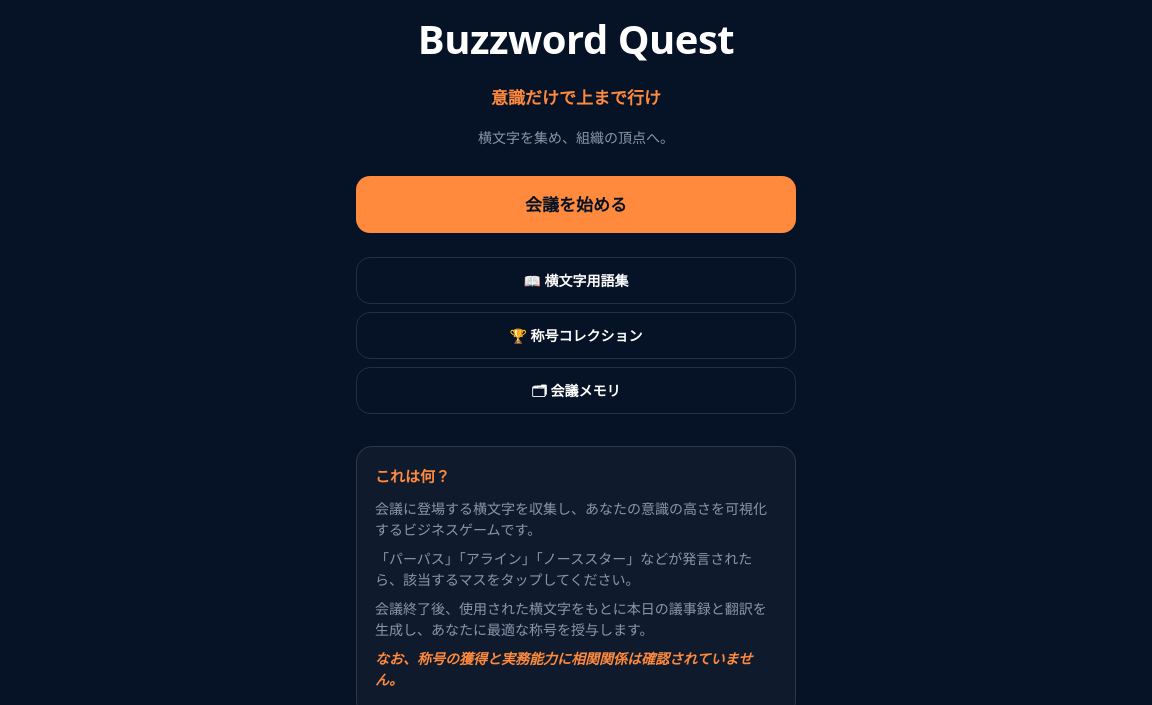
App - title acquisition flow › proceeds to the Result screen (showing the same title) after 結果を見る
The image size is (1152, 705).
Click the button "会議を始める" at (576, 204), box [356,176,796,233]
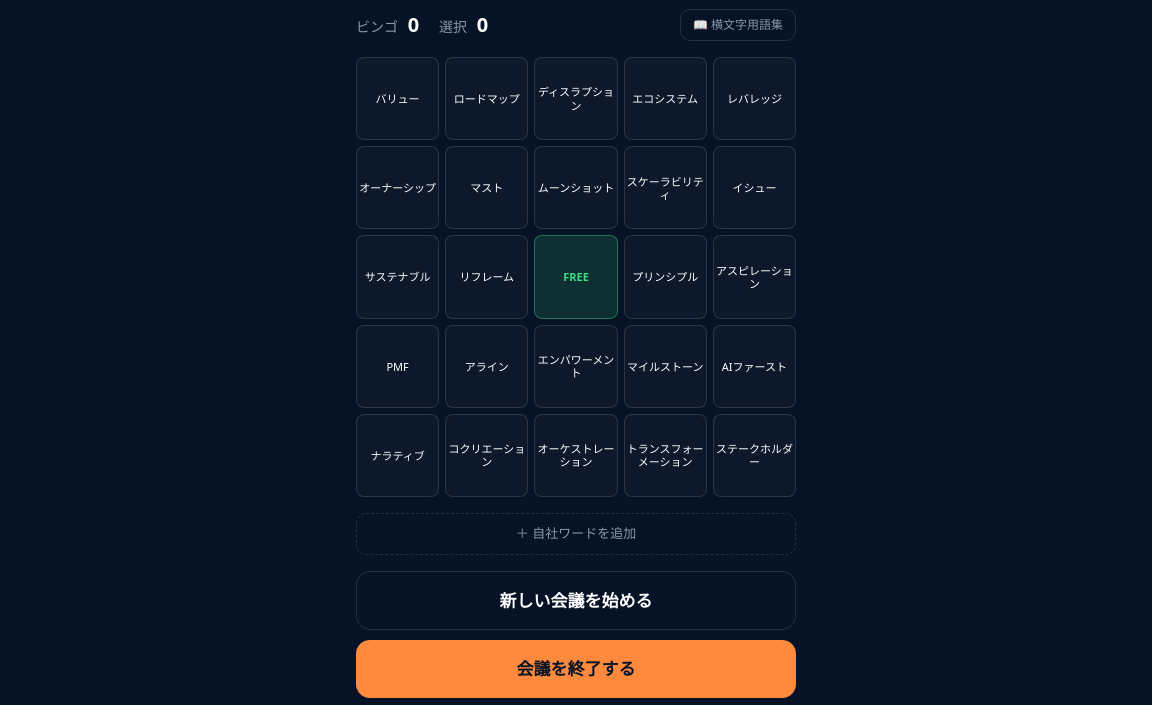
Click the button "バリュー" at (398, 99), box [356,57,439,140]
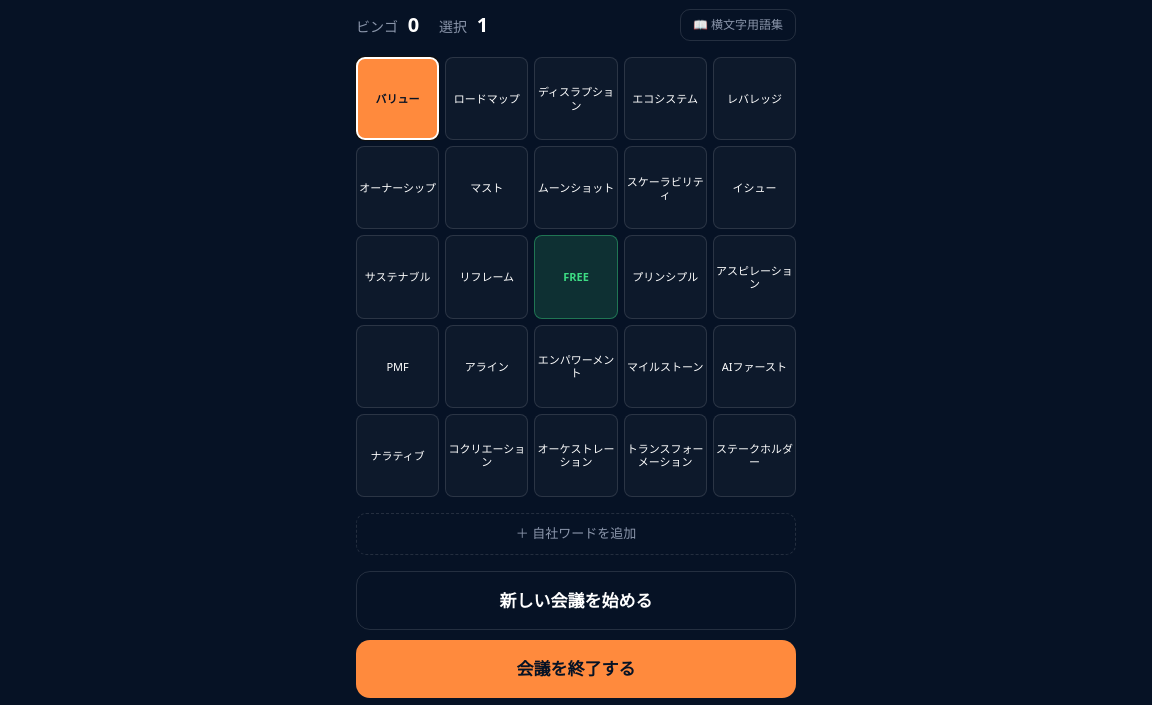
Click the button "会議を終了する" at (576, 669), box [356,640,796,698]
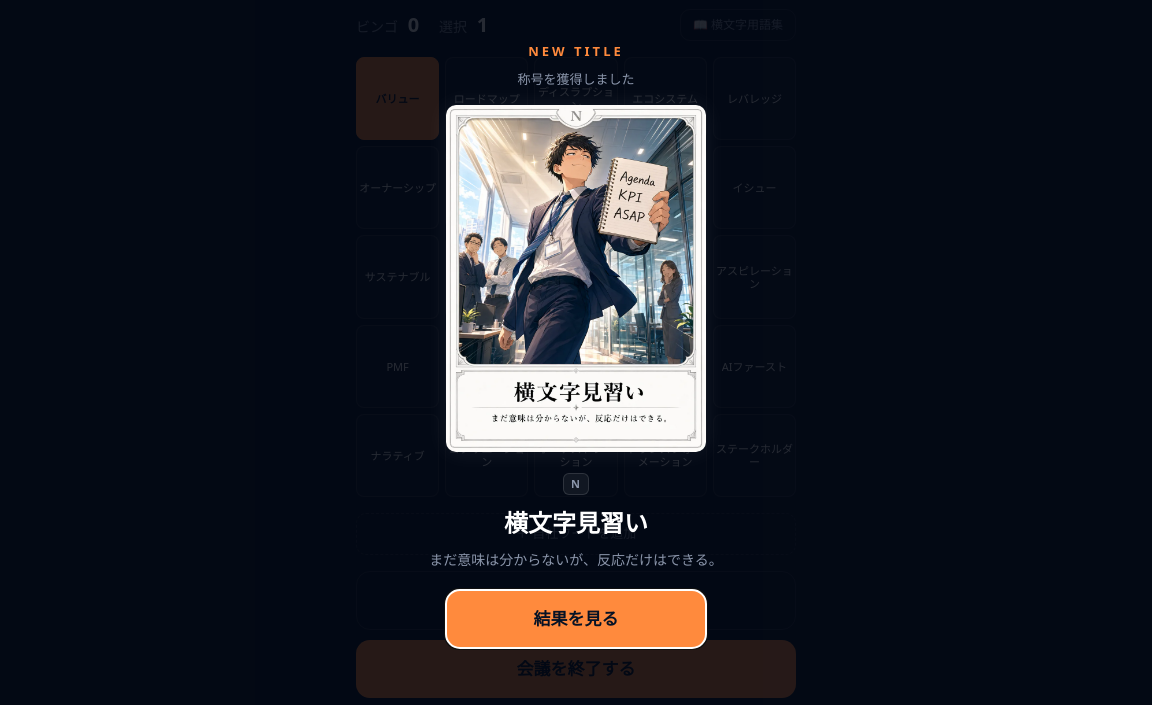
Click the button "結果を見る" at (576, 619), box [446,590,706,648]
(page scrolled)
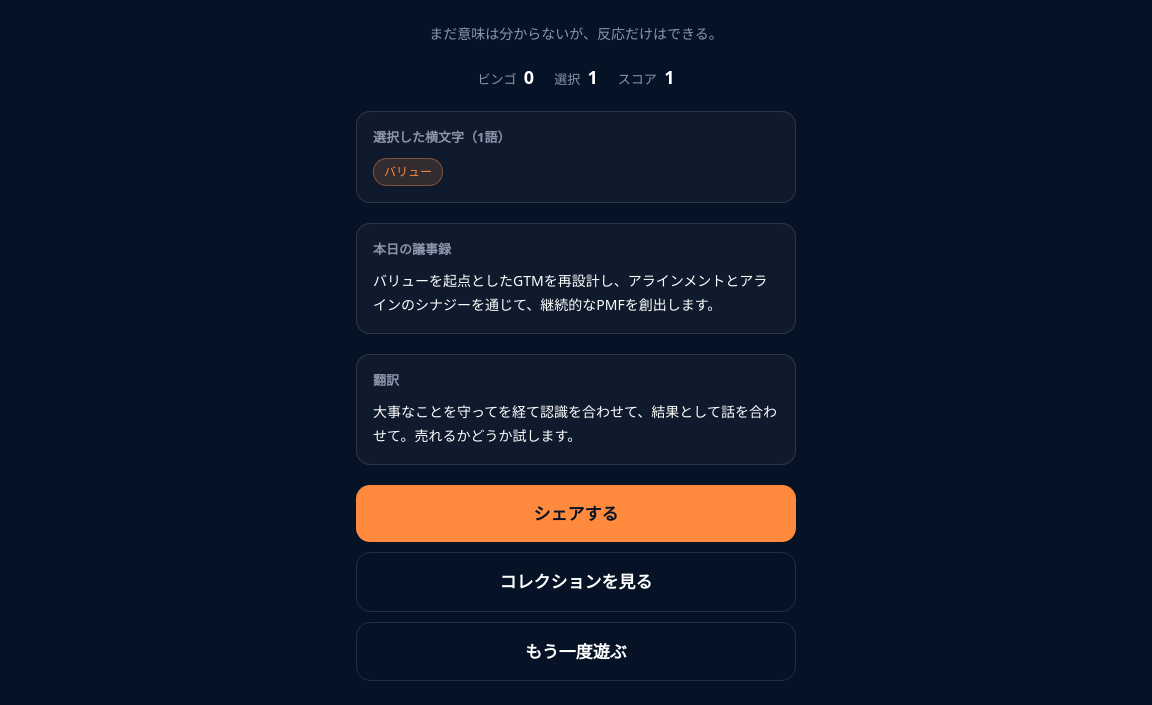
Expected: the button "コレクションを見る" is shown, [356,552,796,612]
Expected: the text "NEW TITLE" is gone
